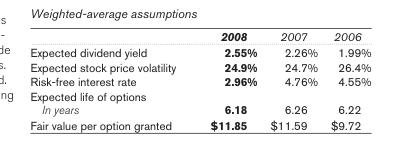table: (29, 28, 370, 131)
table column: (29, 28, 192, 131), (192, 28, 263, 131), (263, 28, 323, 131), (323, 28, 370, 131)
table column header: (29, 28, 370, 43)
table row: (29, 88, 370, 116), (29, 43, 370, 59), (29, 28, 370, 43), (29, 73, 370, 88), (29, 116, 370, 131), (29, 59, 370, 73)
